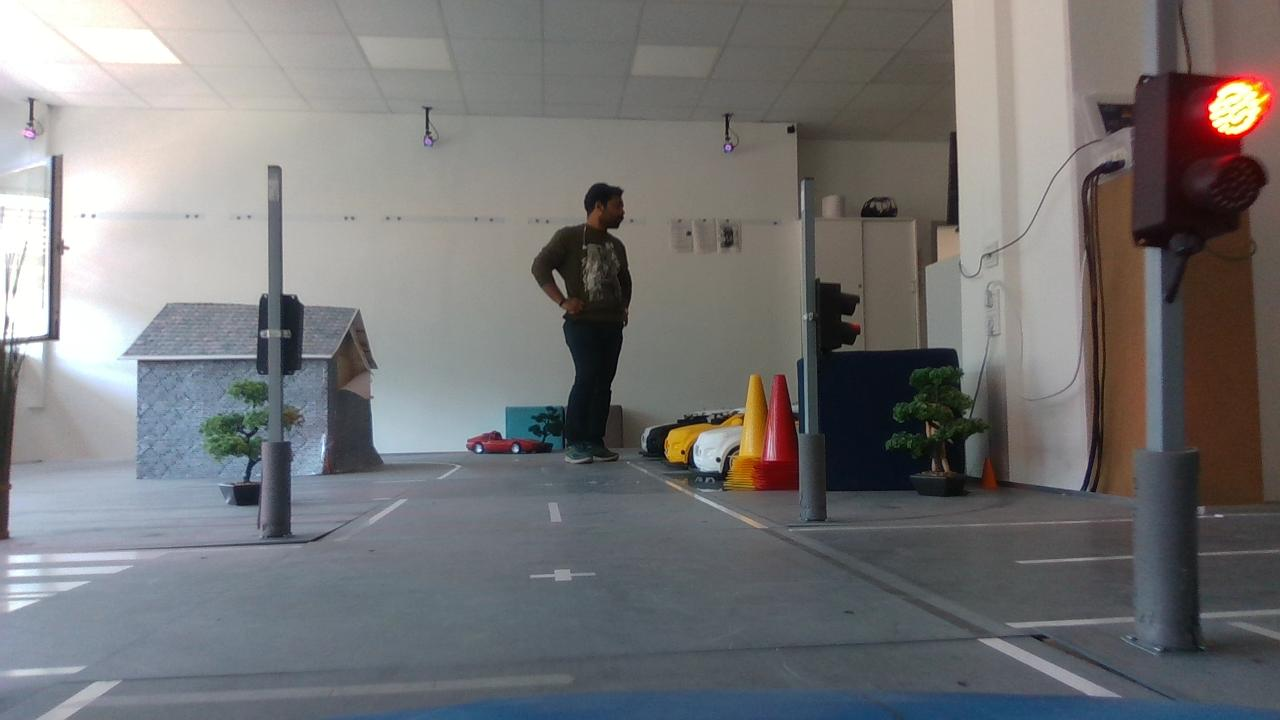traffic_light_red: (1110, 53, 1280, 275)
